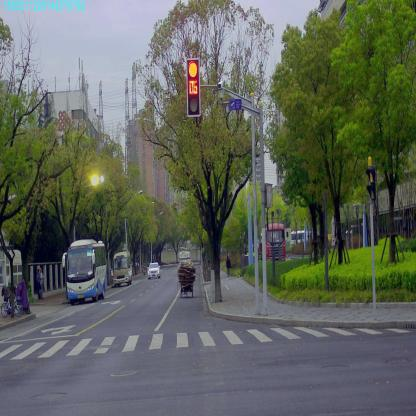traffic-light: (188, 59, 200, 115)
